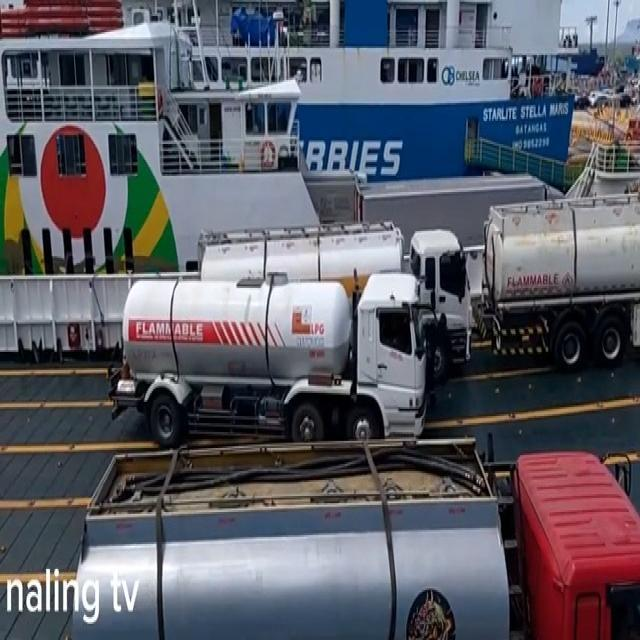truck: (71, 435, 640, 640), (111, 278, 428, 456), (201, 230, 472, 375), (482, 194, 640, 370)
